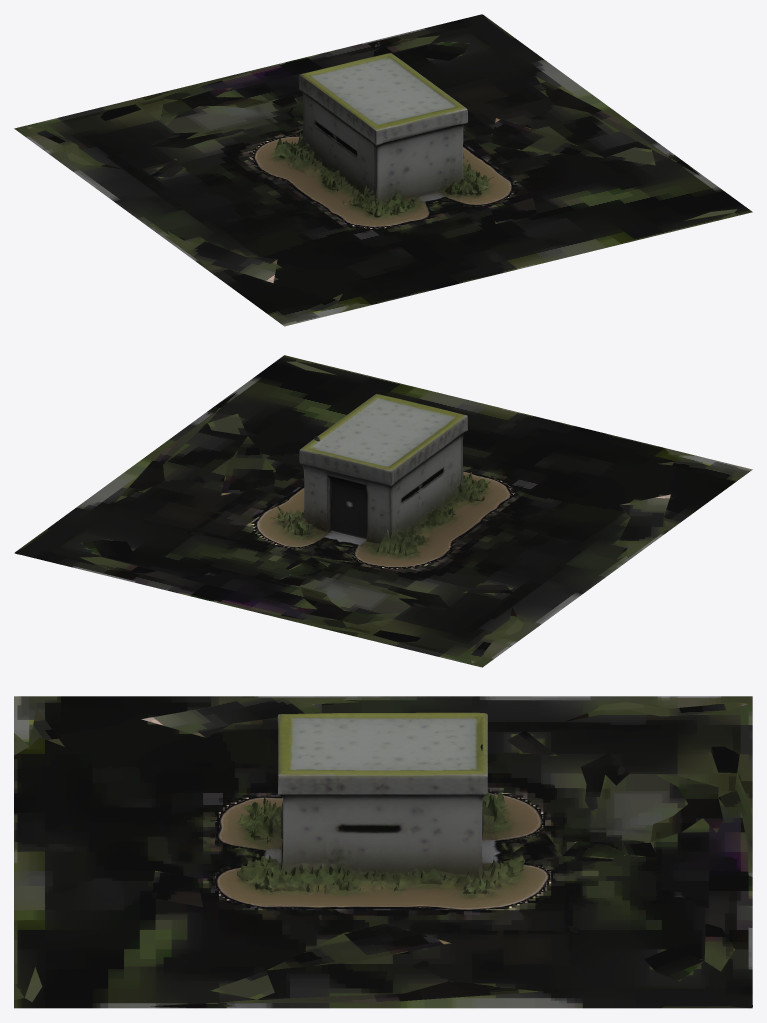
The model's file is bunker.glb.
The picture shows the model from 3 angles, top to bottom: view 1: azimuth 30°, elevation 25°; view 2: azimuth 150°, elevation 25°; view 3: azimuth 270°, elevation 25°; orthographic projection. The views are drawn at different scales.
Parts seen in each view (by area): view 1: geometry_0; view 2: geometry_0; view 3: geometry_0.
Boxes of the visible parts, x1,y1,x2,y2 form: geometry_0: (14, 14, 752, 326); geometry_0: (14, 355, 752, 667); geometry_0: (14, 696, 752, 1008).
Bounding box in the file's own units: 1 × 0.2044 × 1.
Materials: 1 (1 with a texture image).
